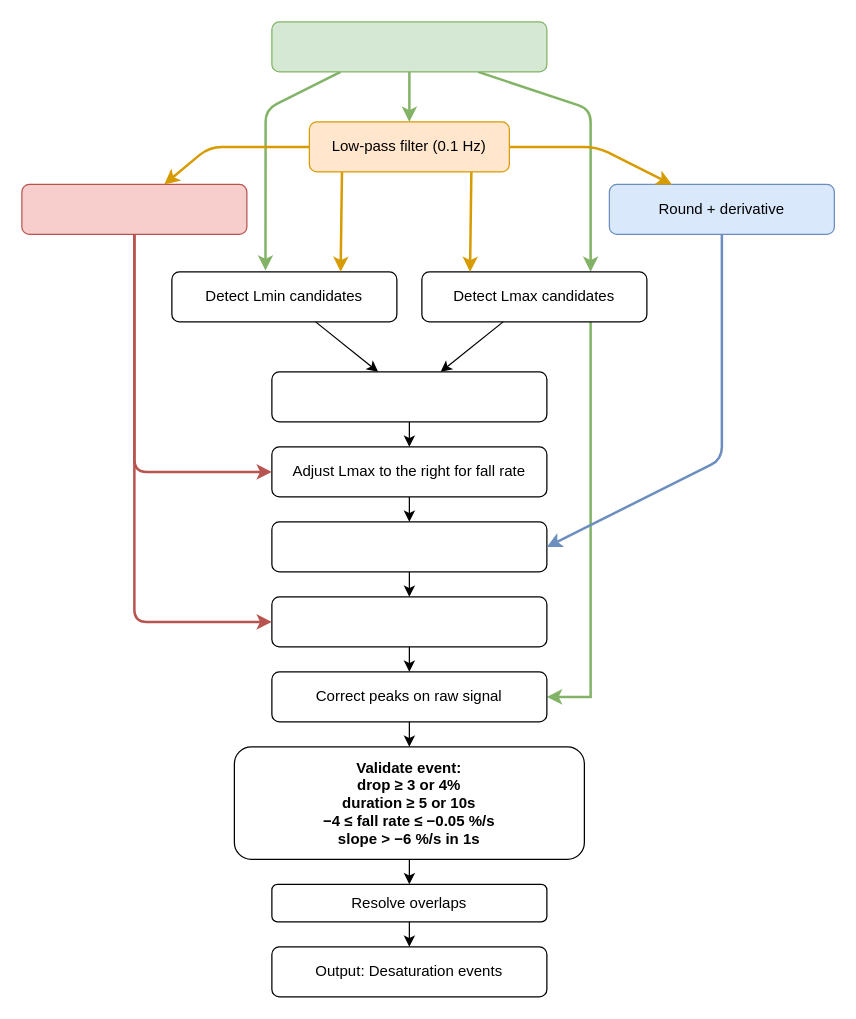
The diagram is 856 pixels wide and 1019 high, and some of its shapes have lost their labels. The centre of each missing label's shape, as x and y in pixels:
"Adjust Lmax and Lmin for plateau" goes at point (409, 546).
"High-pass filter (0.1 Hz)" goes at point (134, 208).
"Input: Cleaned SpO2 signal" goes at point (409, 46).
"Pair Lmax-Lmin" goes at point (409, 396).
"Re-adjust Lmax right for fall rate" goes at point (409, 621).
